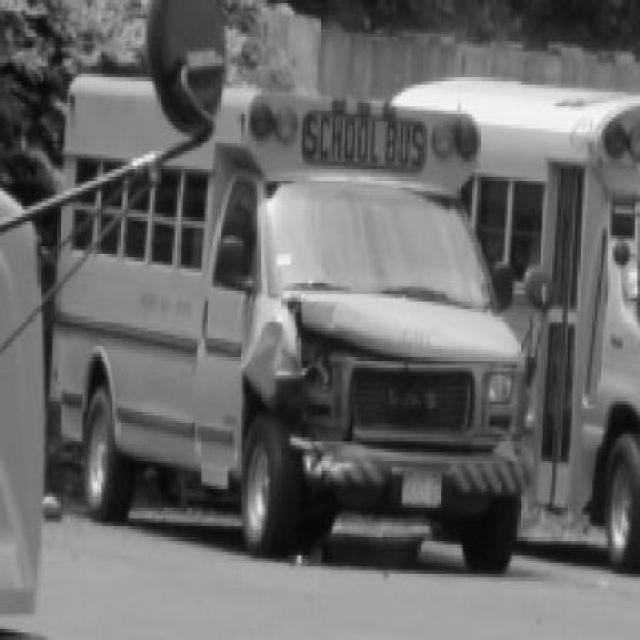Bus- Small: (50, 74, 554, 576)
